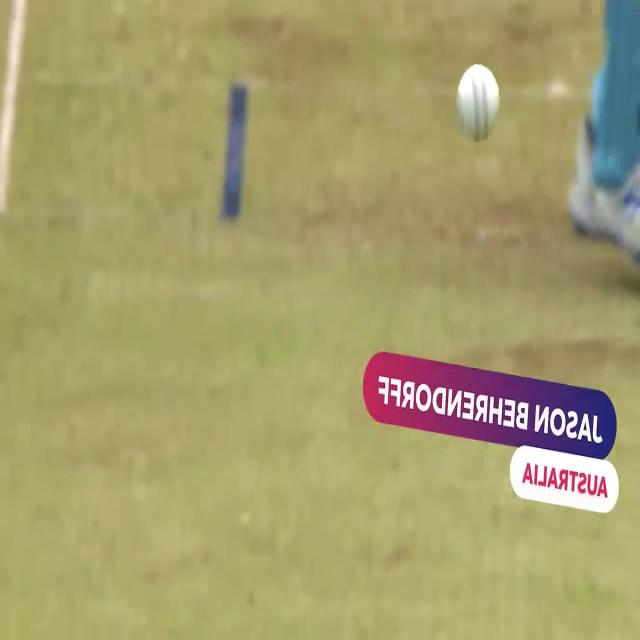ball: (444, 52, 506, 158)
